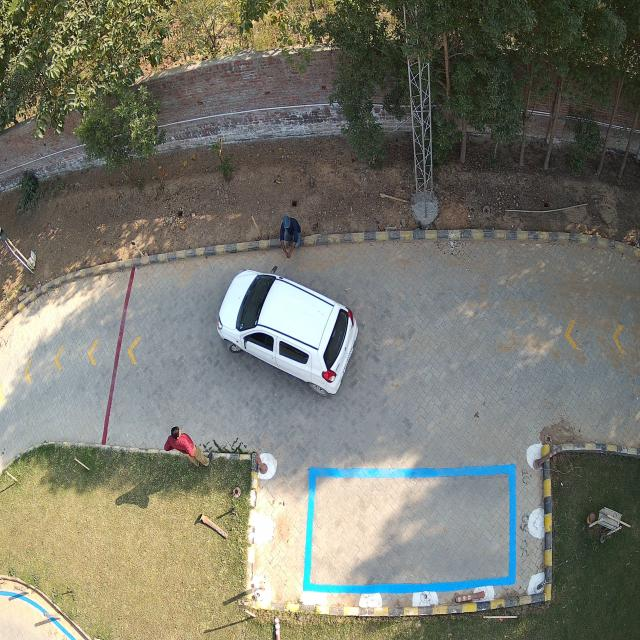car: (216, 271, 358, 397)
